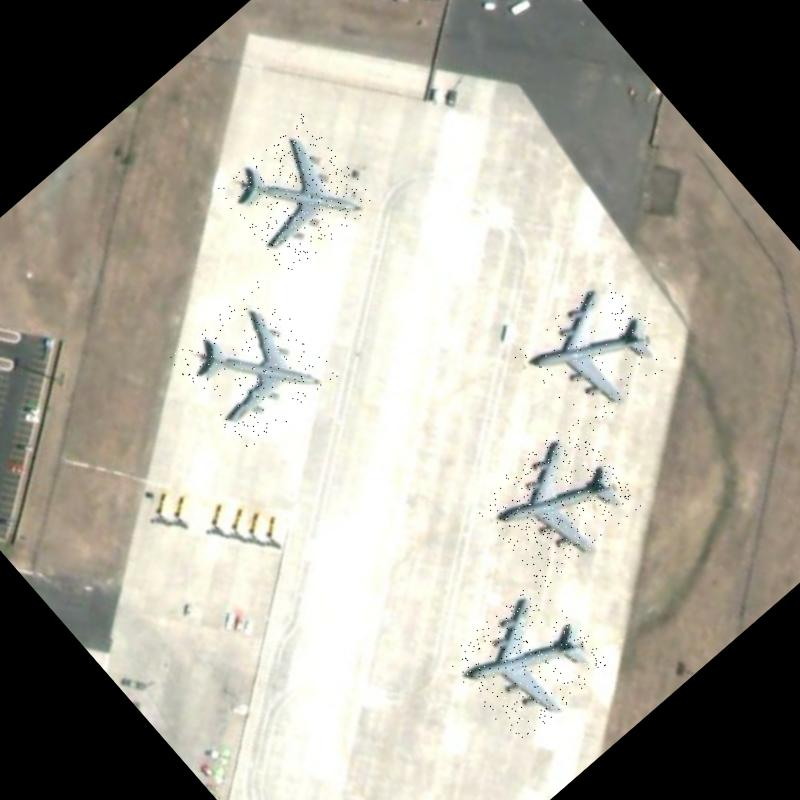A14: (167, 281, 340, 455), (472, 418, 644, 588), (444, 577, 614, 746), (512, 272, 680, 438), (214, 113, 378, 277)
